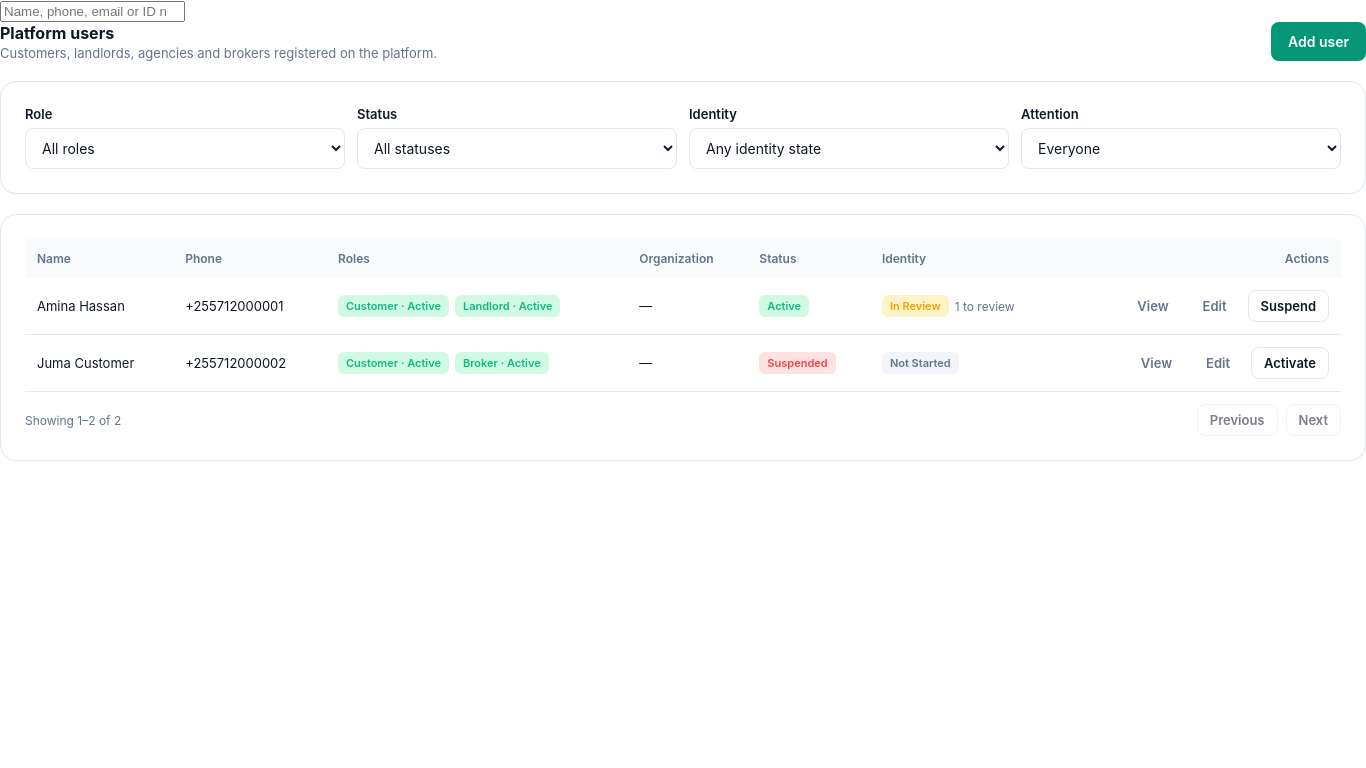
Test: user identity and KYC › a rejected document needs a reason and shows it afterwards
Click the button "View" in the row of "Amina Hassan" at {"x": 1153, "y": 306}, box [1124, 290, 1182, 322]
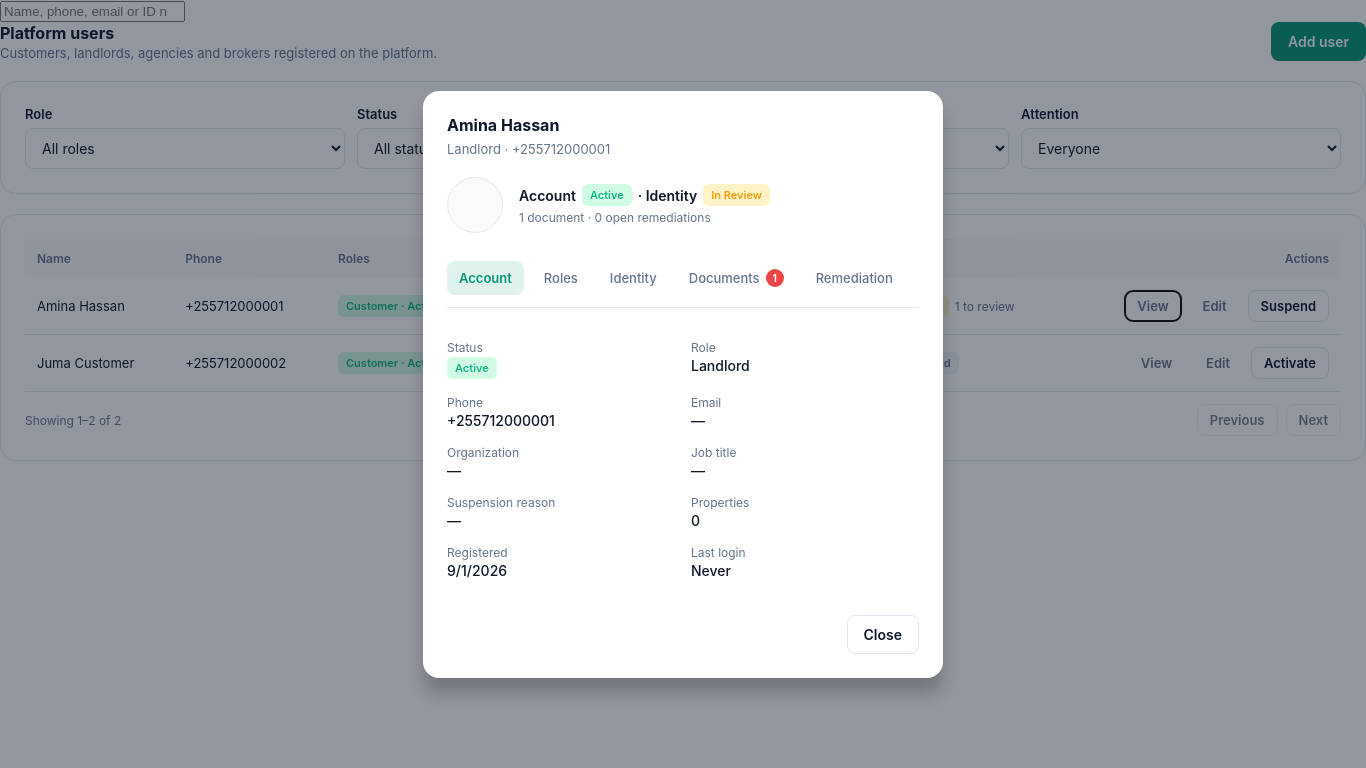
Click the button "Documents 1" at {"x": 736, "y": 278}, box [677, 260, 796, 294]
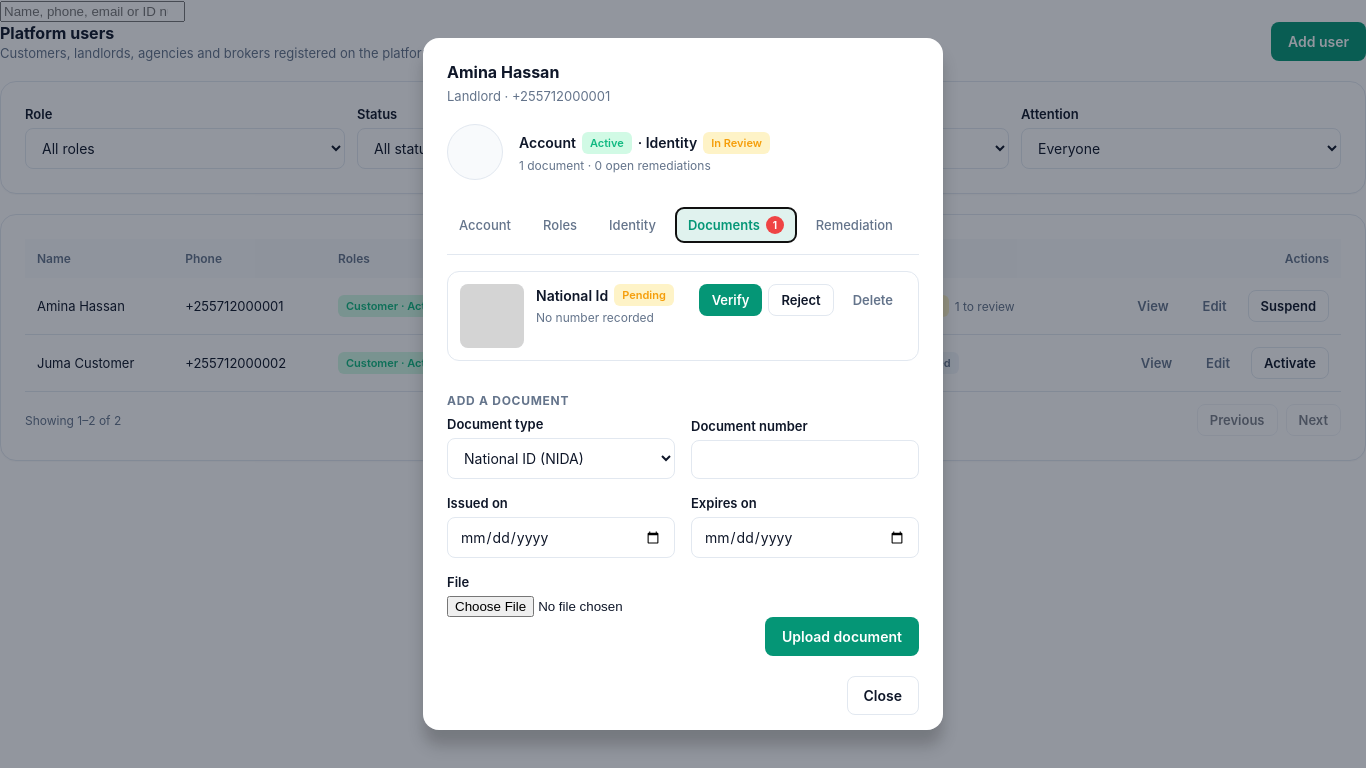
Click the button "Reject" at {"x": 801, "y": 300}, box [768, 284, 834, 316]
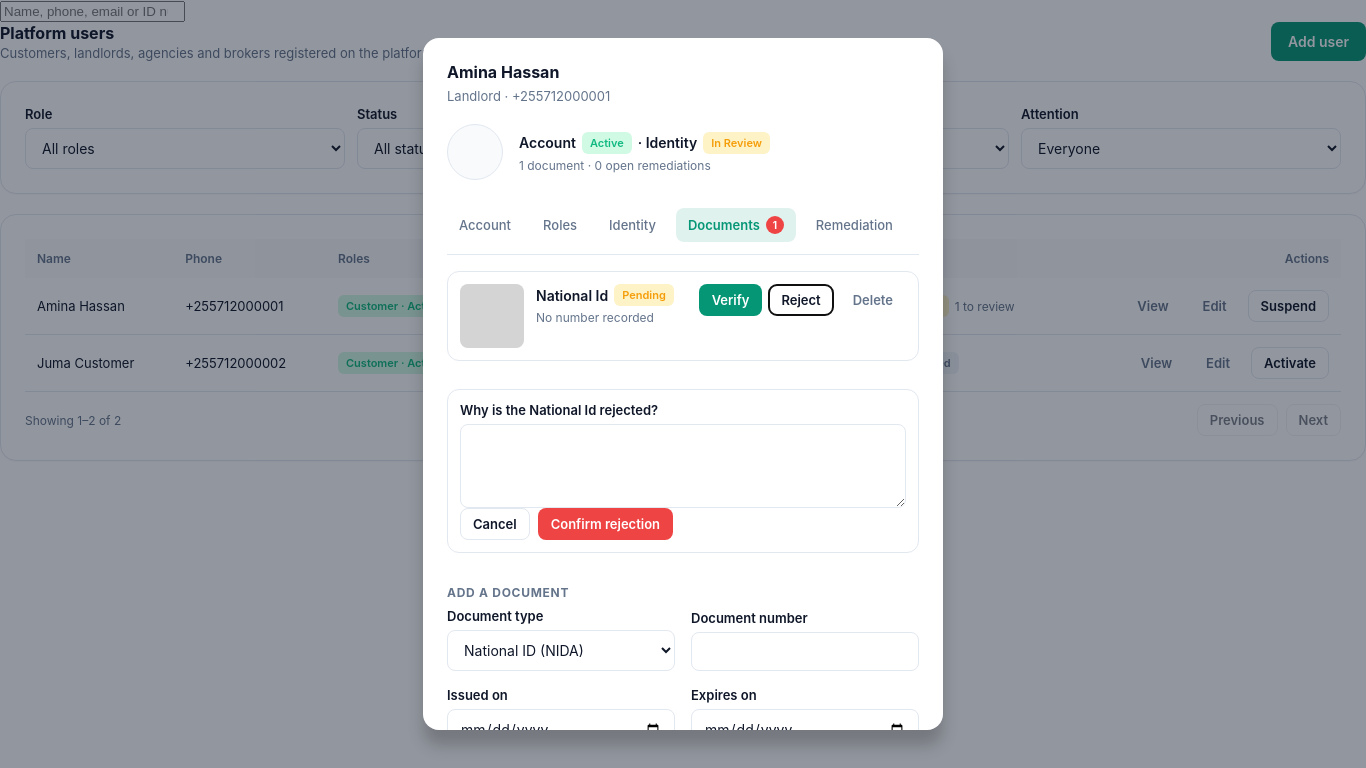
Click the button "Confirm rejection" at {"x": 605, "y": 524}, box [538, 508, 673, 540]
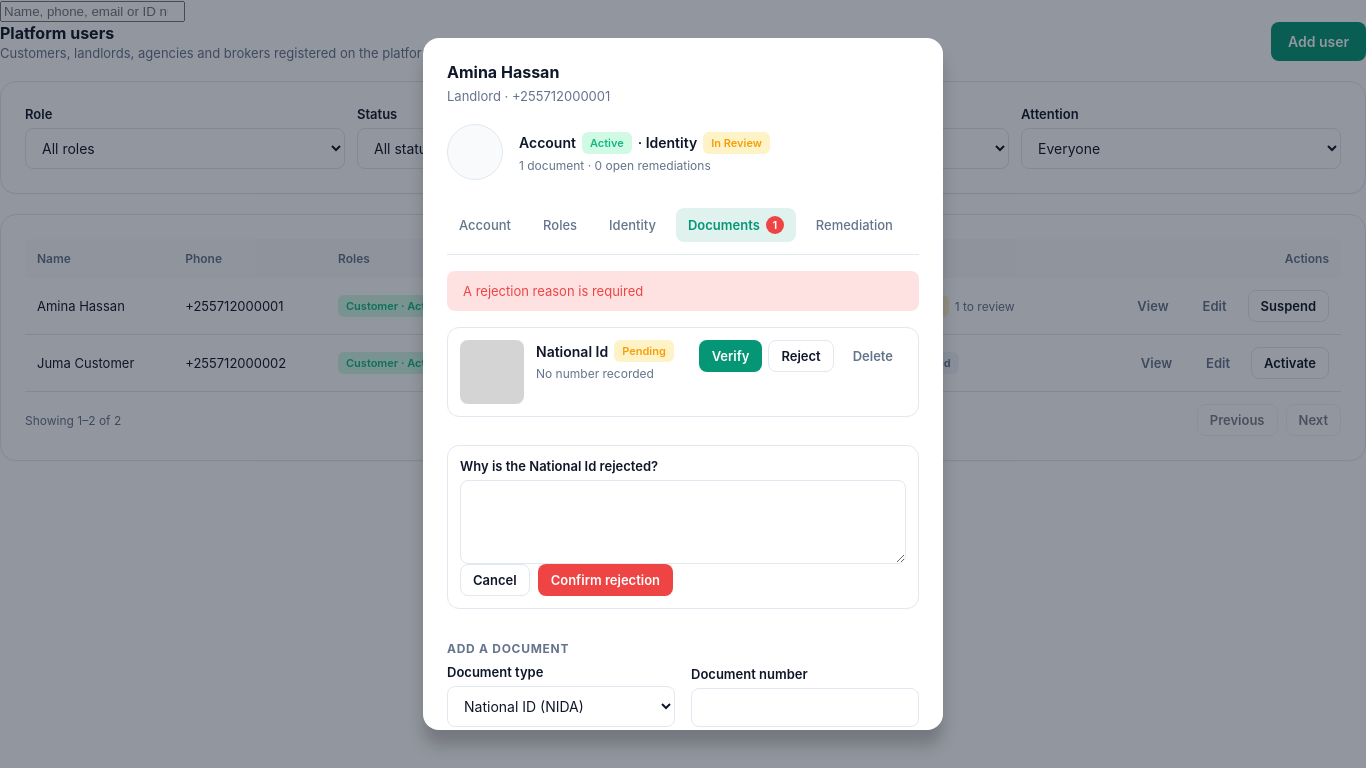
Check: the message shows "rejection reason is required", box [463, 283, 643, 299]
Type "Photo is unreadable" into the text box labelled "Why is the National Id rejected?" at {"x": 683, "y": 522}, box [460, 480, 906, 564]
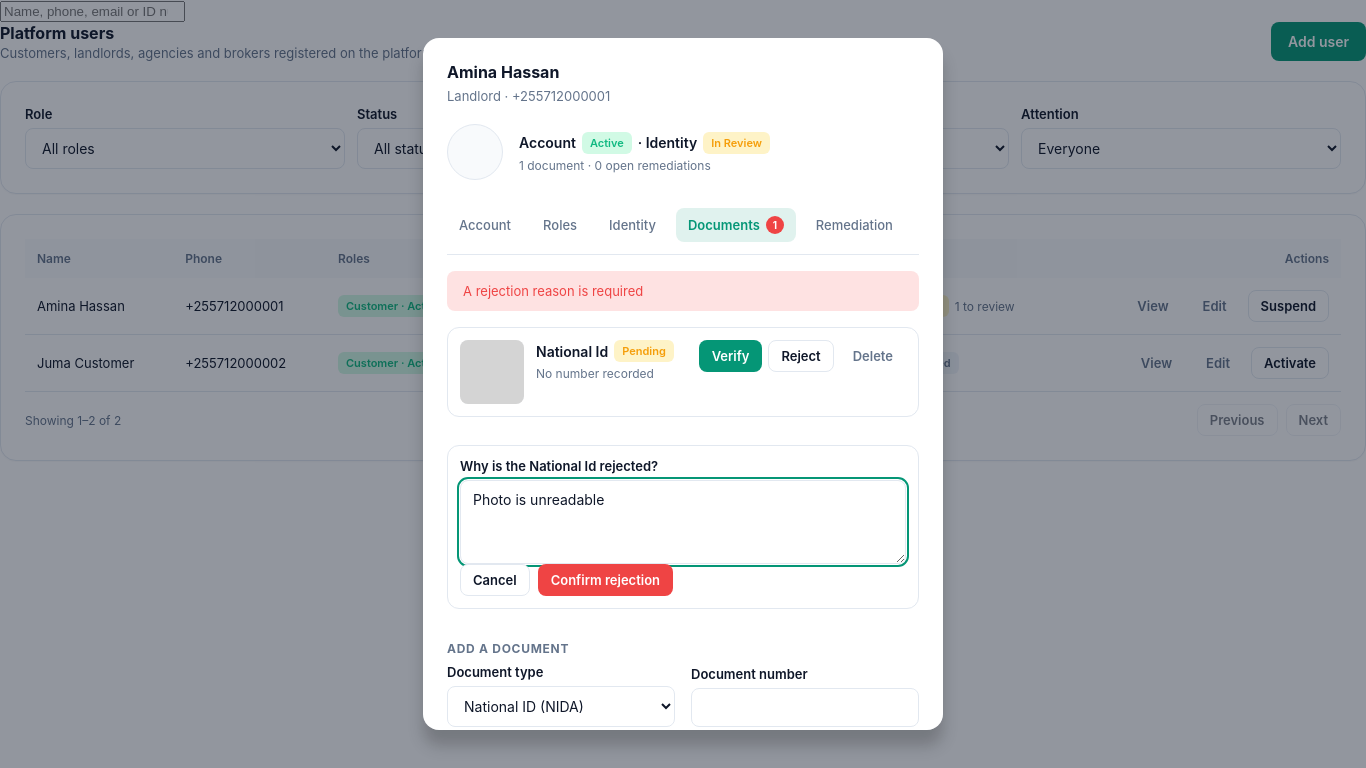
Click the button "Confirm rejection" at {"x": 605, "y": 580}, box [538, 564, 673, 596]
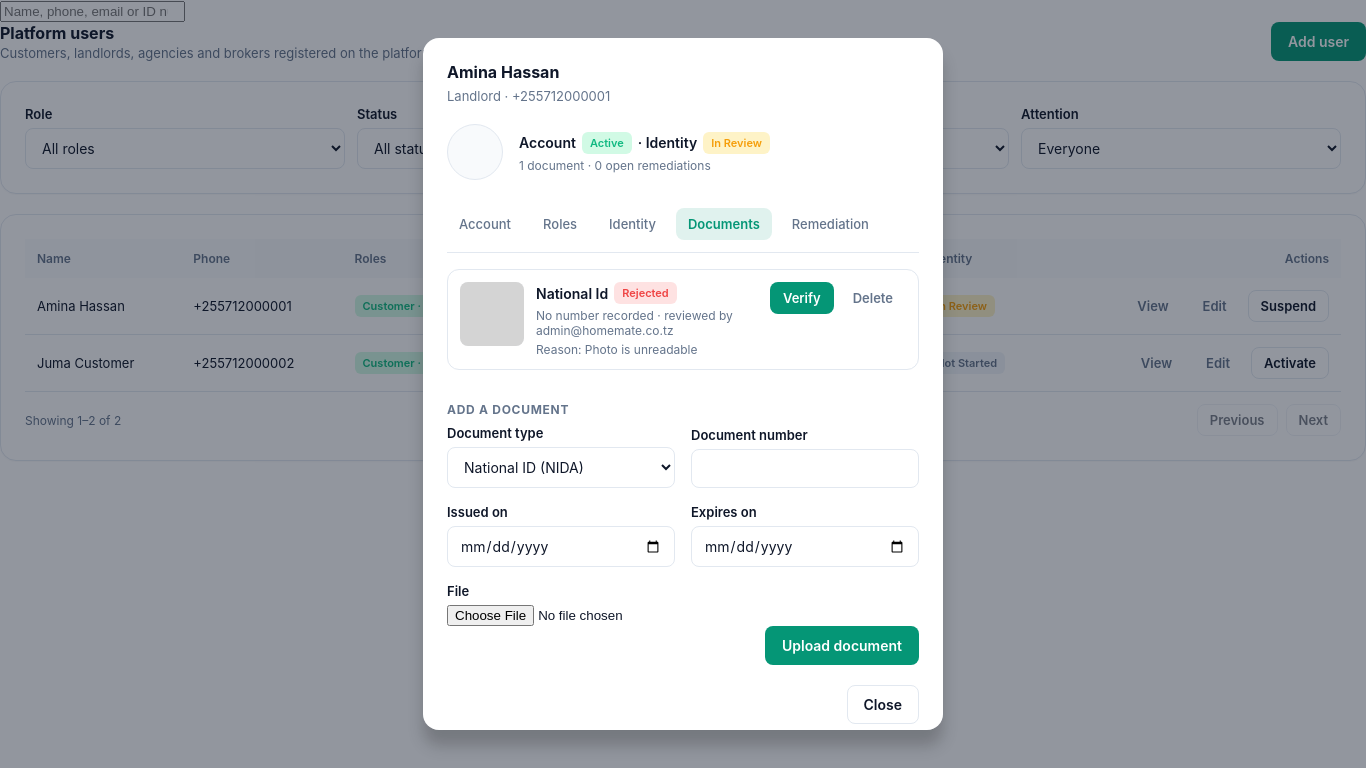
Check: the text "Reason: Photo is unreadable" is shown, box [536, 342, 698, 357]
